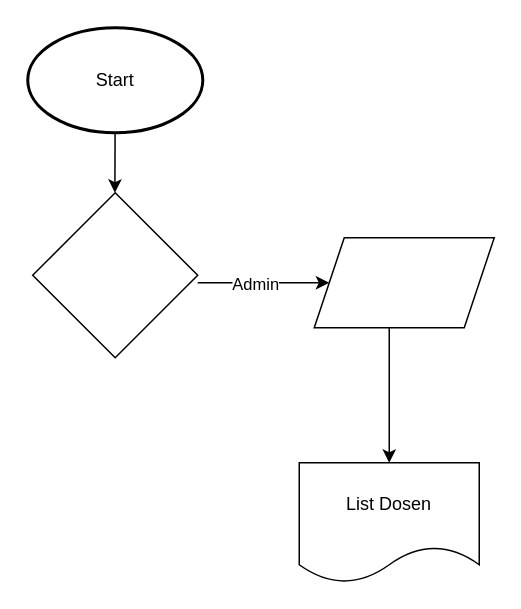
Some shapes in this 521 by 609 pixel diagram are drawn without their labels. Here are the shapes that lost their labels. From the top down, the centre of each, then its label:
At point 114,274: "Login".
At point 403,282: "Membuat list dosen".
